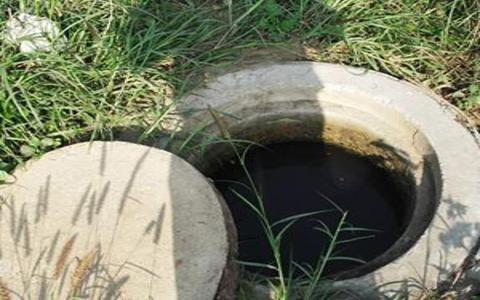open manhole: (172, 73, 447, 283)
